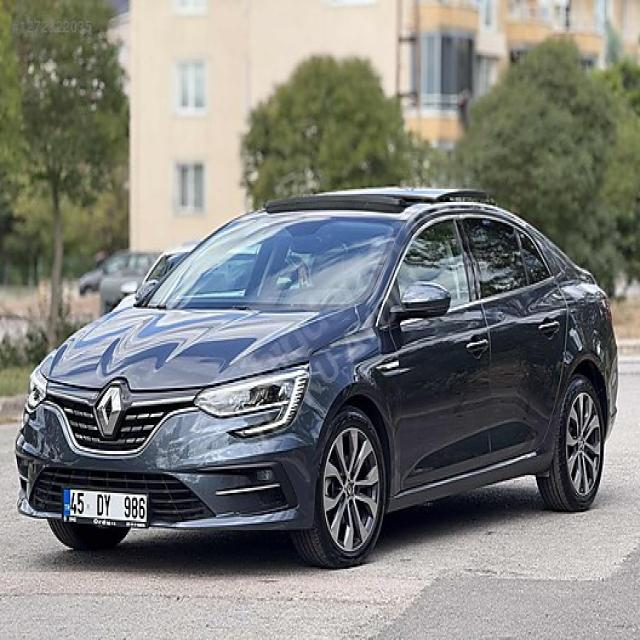renault: (96, 384, 124, 440)
